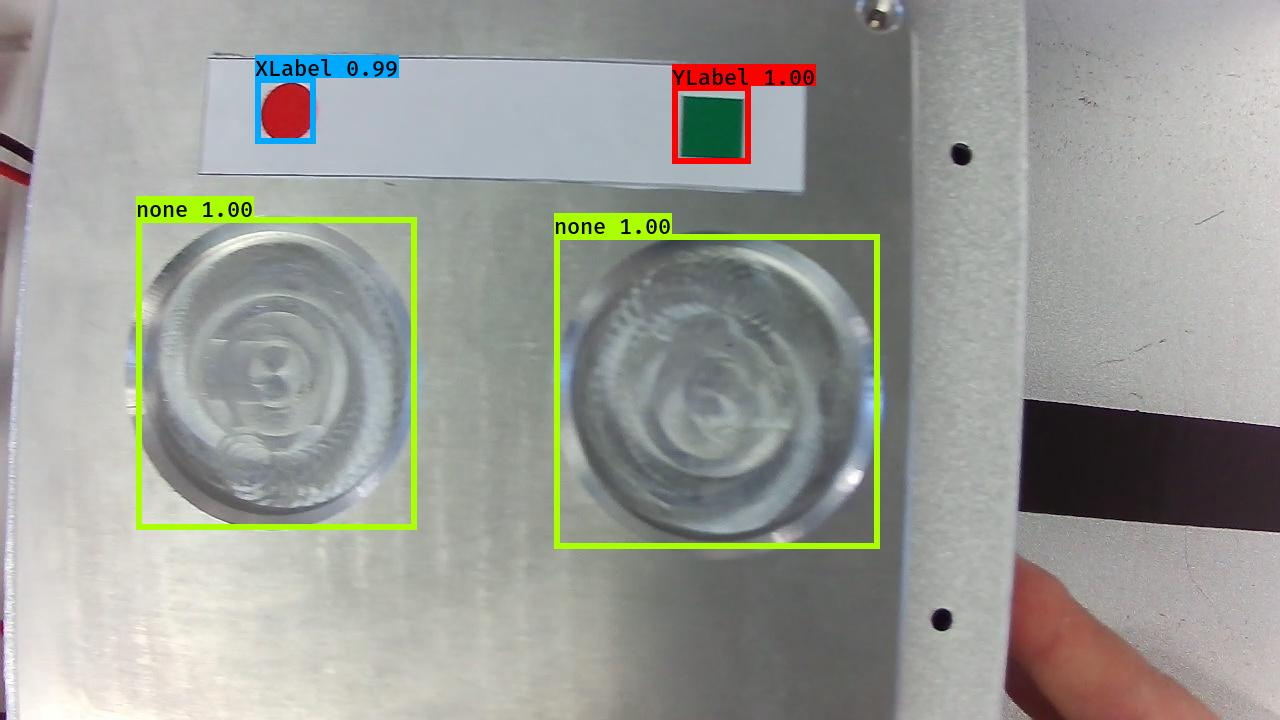XLabel: (254, 78, 317, 146)
YLabel: (677, 90, 750, 163)
none: (546, 226, 887, 564), (115, 213, 425, 536)
